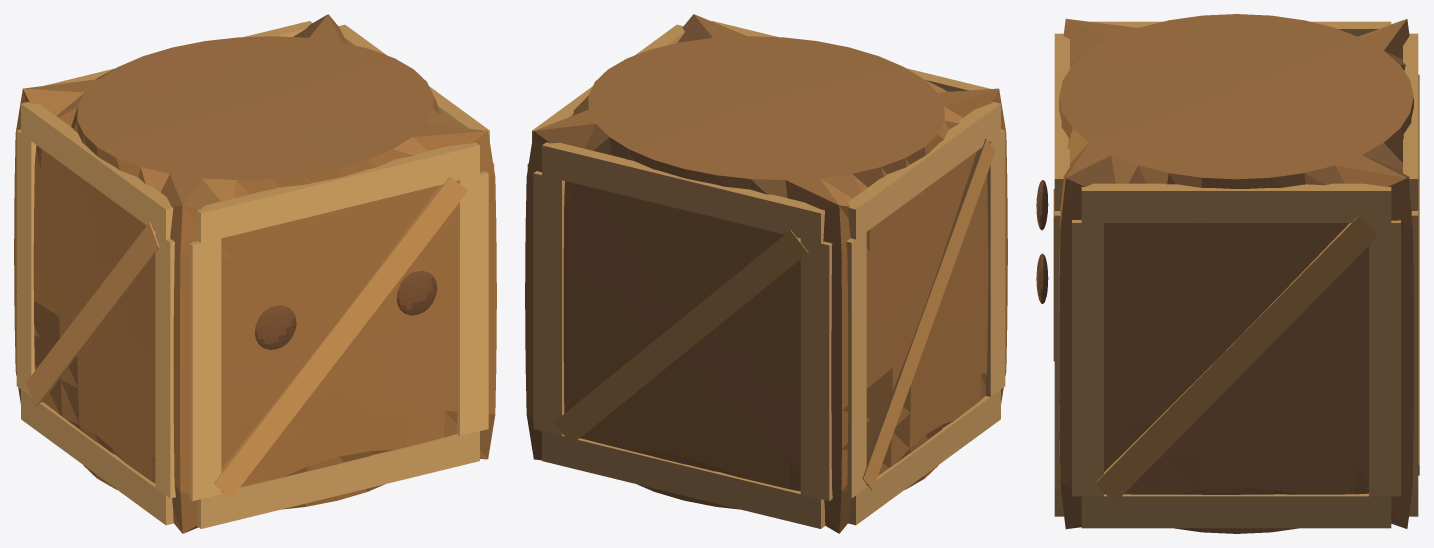
File: crate.glb
3 views of the same model, side by side, from view 1: azimuth 30°, elevation 25°; view 2: azimuth 150°, elevation 25°; view 3: azimuth 270°, elevation 25° (orthographic). The views are drawn at different scales.
Parts seen in each view (by area): view 1: crate; view 2: crate; view 3: crate.
Part boxes in pixels (bbox=[...]): crate: bbox=[14, 14, 496, 533]; crate: bbox=[525, 14, 1007, 533]; crate: bbox=[1036, 14, 1419, 533].
Bounding box in the file's own units: 1.71 × 1.7 × 1.63.
